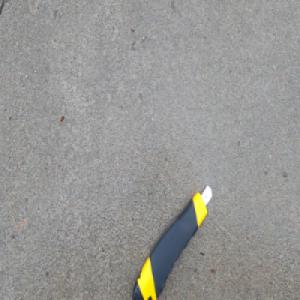Cutter: (130, 182, 213, 300)
